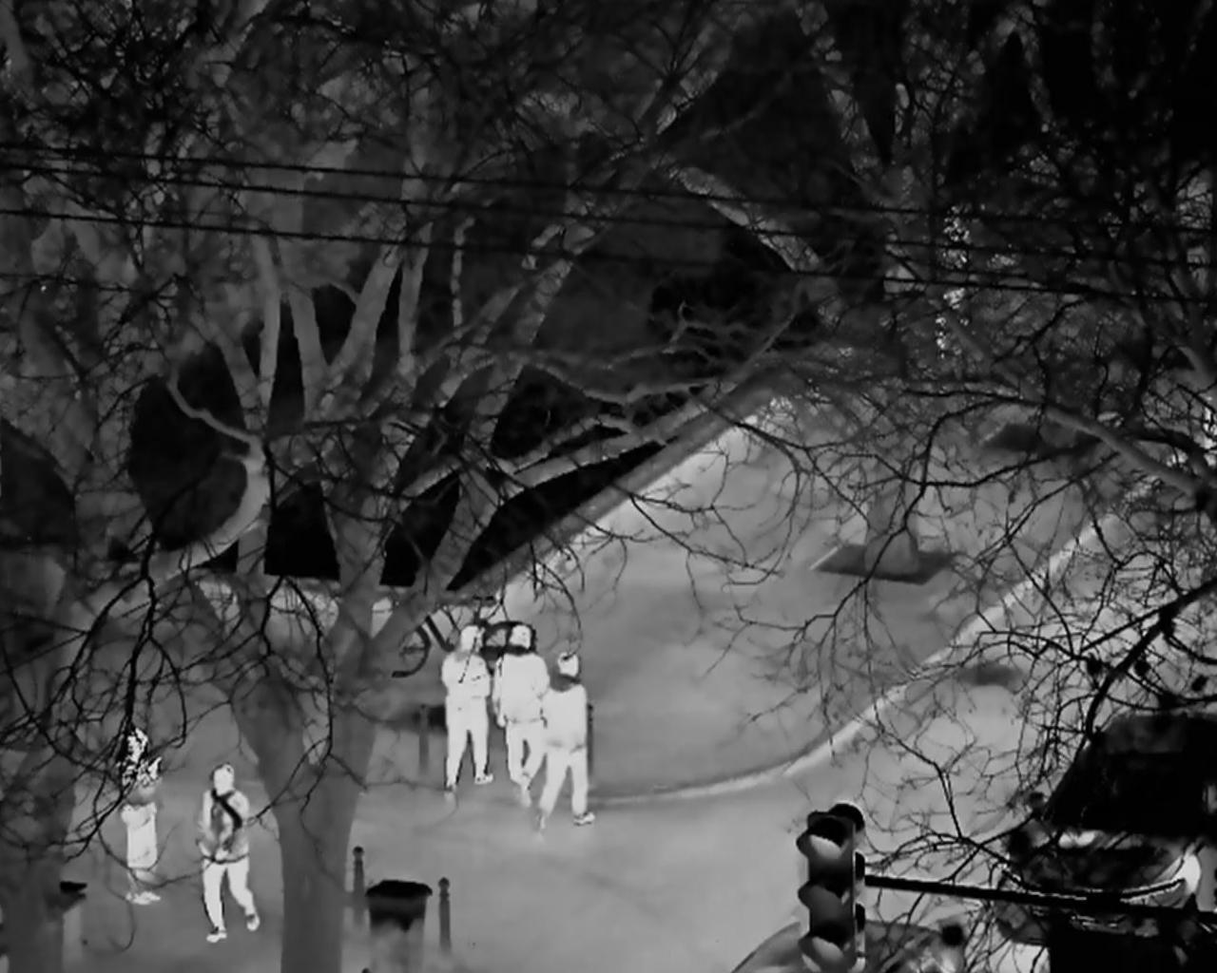person: (194, 766, 261, 942), (533, 654, 595, 828), (438, 621, 493, 810), (493, 623, 549, 808), (116, 726, 168, 908)
